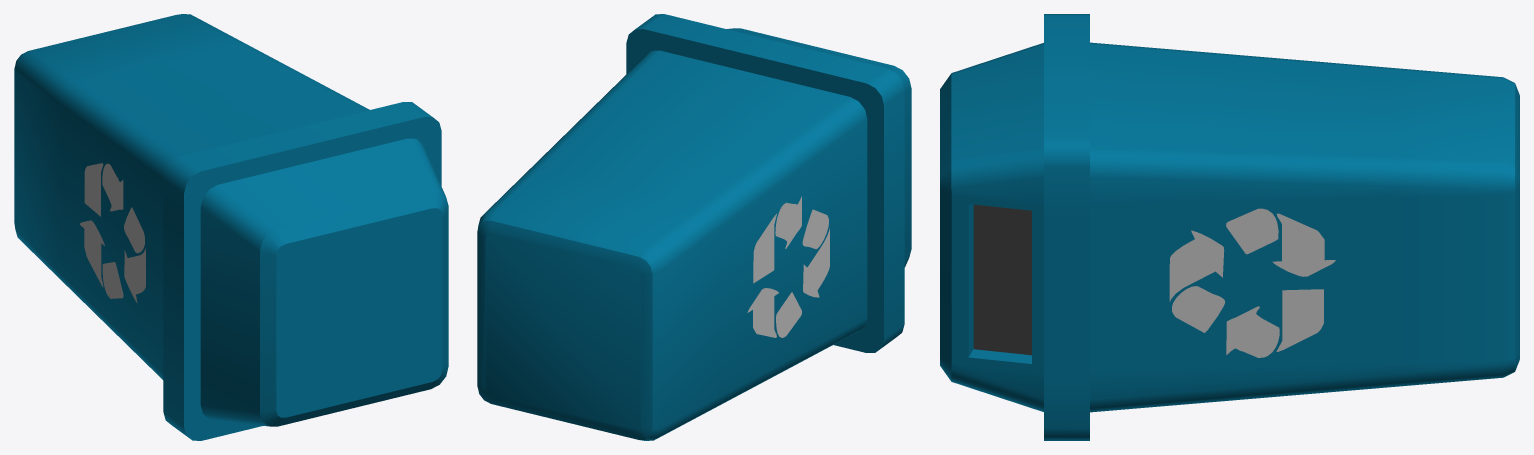
File: can_recycling.glb
The picture shows the model from 3 angles, left to right: view 1: azimuth 30°, elevation 25°; view 2: azimuth 150°, elevation 25°; view 3: azimuth 270°, elevation 25°; orthographic projection. The views are drawn at different scales.
Parts seen in each view (by area): view 1: can_recycling; view 2: can_recycling; view 3: can_recycling.
Boxes of the visible parts, <box> form: can_recycling: <box>14,14,448,440</box>; can_recycling: <box>477,14,911,440</box>; can_recycling: <box>940,14,1519,440</box>.
Size of the model in its own units: 0.6003 by 0.6003 by 1.05.
